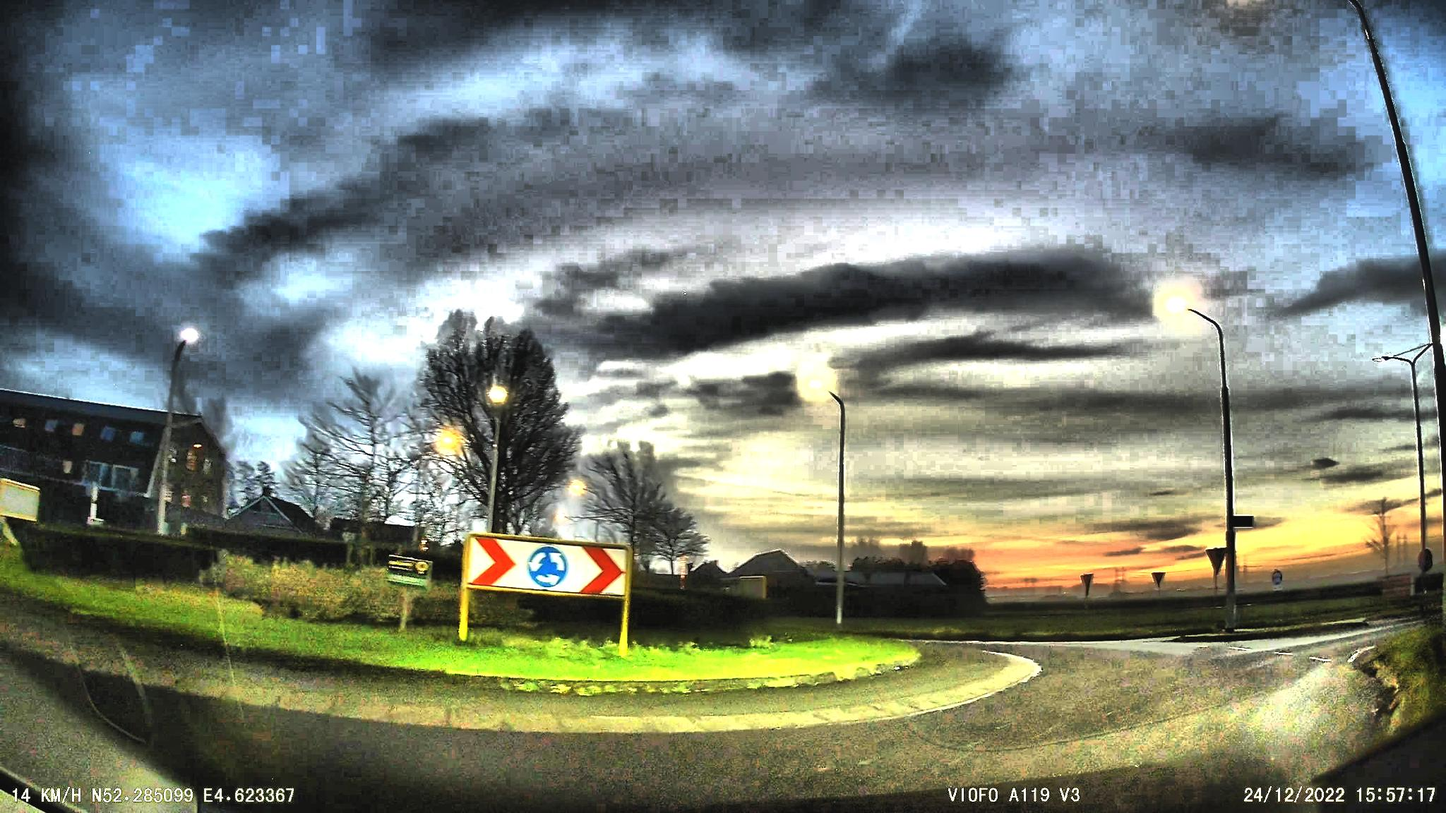Roads: (0, 619, 1415, 813)
